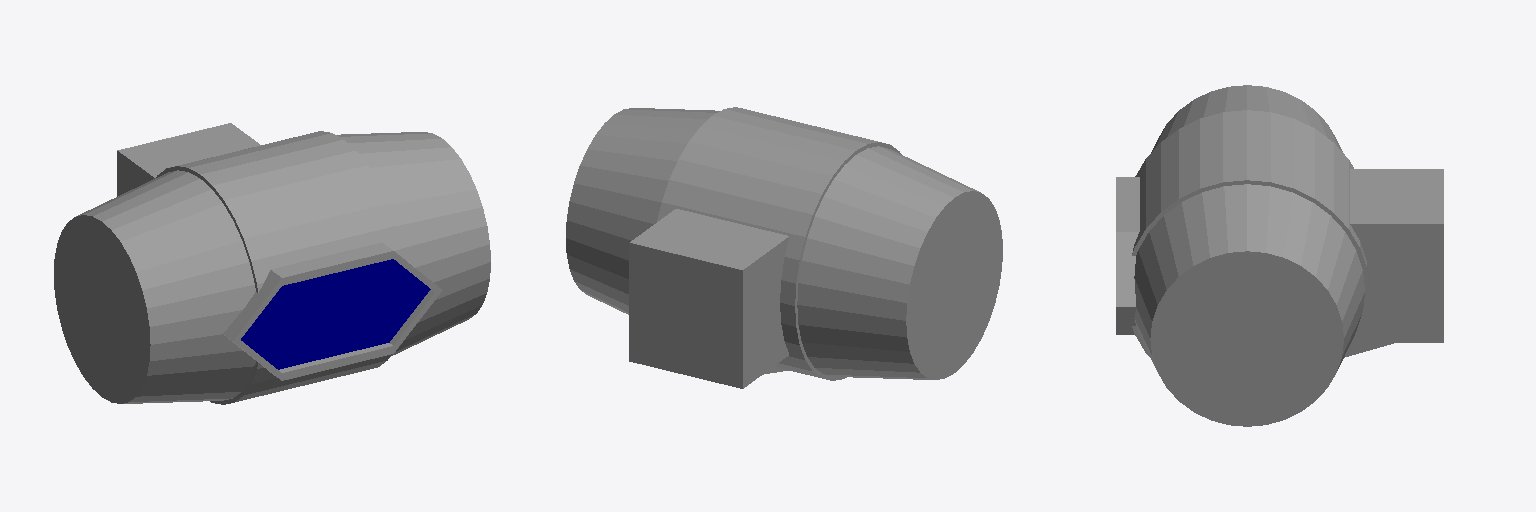
The model's file is Bridge1_Cursor.obj.
The picture shows the model from 3 angles: view 1: azimuth 30°, elevation 25°; view 2: azimuth 150°, elevation 25°; view 3: azimuth 270°, elevation 25°; orthographic projection.
Visible parts, largest first — view 1: Bridge_Cube.001; view 2: Bridge_Cube.001; view 3: Bridge_Cube.001.
Part boxes in pixels (left/top/right/bottom): Bridge_Cube.001: left=54, top=123, right=490, bottom=404; Bridge_Cube.001: left=566, top=107, right=1002, bottom=388; Bridge_Cube.001: left=1116, top=85, right=1443, bottom=426.
Bounding box in the file's own units: 9 × 5.6 × 7.5.